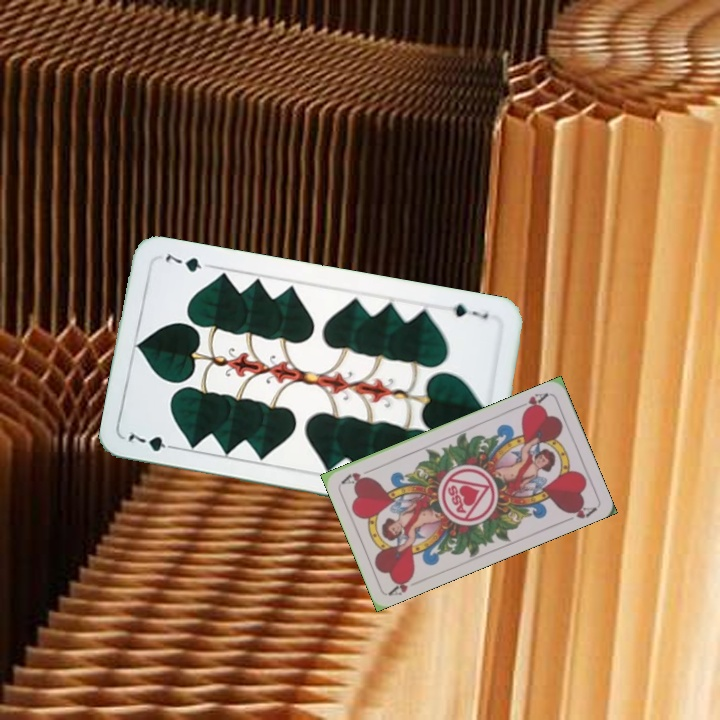G7: (124, 427, 182, 454), (441, 300, 491, 322)
HA: (512, 388, 551, 416), (385, 571, 416, 598)
